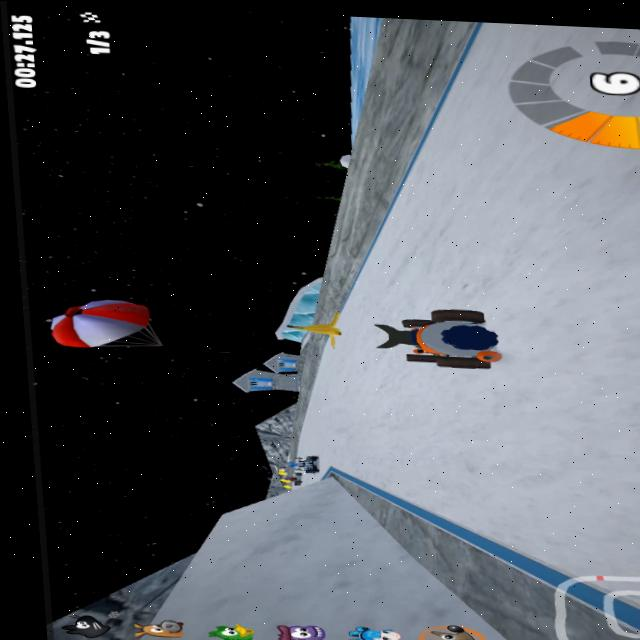enemy_kart: (287, 447, 330, 479)
obstacle: (291, 312, 355, 343)
player_kart: (356, 298, 509, 372)
track: (404, 368, 640, 512), (502, 146, 640, 373), (401, 156, 498, 306), (331, 364, 400, 471), (504, 505, 640, 550), (427, 102, 511, 155), (352, 252, 406, 296), (304, 389, 336, 444)
